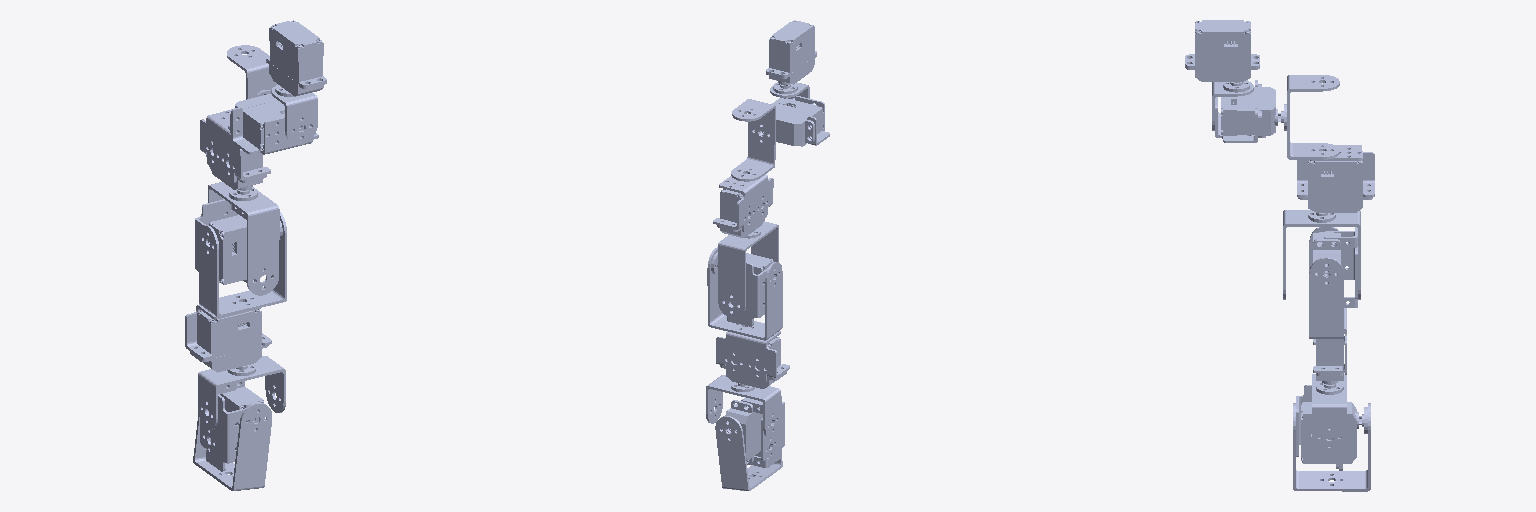
robot.urdf — arm_assembly_2:
<?xml version="1.0" encoding="utf-8"?>
<!-- This URDF was automatically created by SolidWorks to URDF Exporter! Originally created by [author] ([email redacted]) 
     Commit Version: 1.6.0-1-g15f4949  Build Version: 1.6.7594.29634
     For more information, please see http://wiki.ros.org/sw_urdf_exporter -->
<robot
  name="arm_assembly_2">
  <link
    name="link1">
    <inertial>
      <origin
        xyz="1.1338E-06 9.9819E-06 -0.020292"
        rpy="0 0 0" />
      <mass
        value="0.031905" />
      <inertia
        ixx="8.6771E-06"
        ixy="-2.6656E-10"
        ixz="9.1152E-11"
        iyy="5.2647E-06"
        iyz="8.0892E-08"
        izz="5.4828E-06" />
    </inertial>
    <visual>
      <origin
        xyz="0 0 0"
        rpy="0 0 0" />
      <geometry>
        <mesh
          filename="package://arm_assembly_2/meshes/link1.STL" />
      </geometry>
      <material
        name="">
        <color
          rgba="0.79216 0.81961 0.93333 1" />
      </material>
    </visual>
    <collision>
      <origin
        xyz="0 0 0"
        rpy="0 0 0" />
      <geometry>
        <mesh
          filename="package://arm_assembly_2/meshes/link1.STL" />
      </geometry>
    </collision>
  </link>
  <link
    name="link2">
    <inertial>
      <origin
        xyz="-0.0087141 0.0060617 -0.028002"
        rpy="0 0 0" />
      <mass
        value="0.04101" />
      <inertia
        ixx="9.4593E-06"
        ixy="3.7131E-07"
        ixz="-5.3734E-07"
        iyy="9.1892E-06"
        iyz="5.2146E-07"
        izz="1.2798E-05" />
    </inertial>
    <visual>
      <origin
        xyz="0 0 0"
        rpy="0 0 0" />
      <geometry>
        <mesh
          filename="package://arm_assembly_2/meshes/link2.STL" />
      </geometry>
      <material
        name="">
        <color
          rgba="0.79216 0.81961 0.93333 1" />
      </material>
    </visual>
    <collision>
      <origin
        xyz="0 0 0"
        rpy="0 0 0" />
      <geometry>
        <mesh
          filename="package://arm_assembly_2/meshes/link2.STL" />
      </geometry>
    </collision>
  </link>
  <joint
    name="joint1"
    type="continuous">
    <origin
      xyz="0.00015556 0.0099012 -0.0435"
      rpy="0 0 0" />
    <parent
      link="link1" />
    <child
      link="link2" />
    <axis
      xyz="0 0 -1" />
  </joint>
  <link
    name="link3">
    <inertial>
      <origin
        xyz="-0.002309 0.035492 -0.043342"
        rpy="0 0 0" />
      <mass
        value="0.044197" />
      <inertia
        ixx="3.3418E-05"
        ixy="3.9532E-07"
        ixz="-5.011E-07"
        iyy="2.4892E-05"
        iyz="7.3143E-06"
        izz="1.2384E-05" />
    </inertial>
    <visual>
      <origin
        xyz="0 0 0"
        rpy="0 0 0" />
      <geometry>
        <mesh
          filename="package://arm_assembly_2/meshes/link3.STL" />
      </geometry>
      <material
        name="">
        <color
          rgba="0.79216 0.81961 0.93333 1" />
      </material>
    </visual>
    <collision>
      <origin
        xyz="0 0 0"
        rpy="0 0 0" />
      <geometry>
        <mesh
          filename="package://arm_assembly_2/meshes/link3.STL" />
      </geometry>
    </collision>
  </link>
  <joint
    name="joint2"
    type="continuous">
    <origin
      xyz="0.00040116 0.032139 -0.028656"
      rpy="0 0 0" />
    <parent
      link="link2" />
    <child
      link="link3" />
    <axis
      xyz="0 -1 0" />
  </joint>
  <link
    name="link4">
    <inertial>
      <origin
        xyz="-0.0013421 0.0048708 -0.042547"
        rpy="0 0 0" />
      <mass
        value="0.046897" />
      <inertia
        ixx="2.1057E-05"
        ixy="7.0643E-07"
        ixz="-3.4862E-07"
        iyy="1.9127E-05"
        iyz="9.7052E-07"
        izz="1.3946E-05" />
    </inertial>
    <visual>
      <origin
        xyz="0 0 0"
        rpy="0 0 0" />
      <geometry>
        <mesh
          filename="package://arm_assembly_2/meshes/link4.STL" />
      </geometry>
      <material
        name="">
        <color
          rgba="0.79216 0.81961 0.93333 1" />
      </material>
    </visual>
    <collision>
      <origin
        xyz="0 0 0"
        rpy="0 0 0" />
      <geometry>
        <mesh
          filename="package://arm_assembly_2/meshes/link4.STL" />
      </geometry>
    </collision>
  </link>
  <joint
    name="joint3"
    type="continuous">
    <origin
      xyz="-0.0014881 0.02946 -0.074719"
      rpy="0 0 0" />
    <parent
      link="link3" />
    <child
      link="link4" />
    <axis
      xyz="0 0 1" />
  </joint>
  <link
    name="link5">
    <inertial>
      <origin
        xyz="-0.0057267 0.002757 -0.066036"
        rpy="0 0 0" />
      <mass
        value="0.046897" />
      <inertia
        ixx="2.8258E-05"
        ixy="2.9557E-07"
        ixz="-4.4591E-06"
        iyy="3.8338E-05"
        iyz="1.0415E-06"
        izz="1.4302E-05" />
    </inertial>
    <visual>
      <origin
        xyz="0 0 0"
        rpy="0 0 0" />
      <geometry>
        <mesh
          filename="package://arm_assembly_2/meshes/link5.STL" />
      </geometry>
      <material
        name="">
        <color
          rgba="0.79216 0.81961 0.93333 1" />
      </material>
    </visual>
    <collision>
      <origin
        xyz="0 0 0"
        rpy="0 0 0" />
      <geometry>
        <mesh
          filename="package://arm_assembly_2/meshes/link5.STL" />
      </geometry>
    </collision>
  </link>
  <joint
    name="joint4"
    type="continuous">
    <origin
      xyz="0 0.0033706 -0.036909"
      rpy="0 0 0" />
    <parent
      link="link4" />
    <child
      link="link5" />
    <axis
      xyz="-1 0 0" />
  </joint>
  <link
    name="link6">
    <inertial>
      <origin
        xyz="-0.0051364 -0.001456 -0.037837"
        rpy="0 0 0" />
      <mass
        value="0.044197" />
      <inertia
        ixx="1.6766E-05"
        ixy="-6.8836E-07"
        ixz="-9.2738E-07"
        iyy="1.6803E-05"
        iyz="-3.4259E-07"
        izz="1.1763E-05" />
    </inertial>
    <visual>
      <origin
        xyz="0 0 0"
        rpy="0 0 0" />
      <geometry>
        <mesh
          filename="package://arm_assembly_2/meshes/link6.STL" />
      </geometry>
      <material
        name="">
        <color
          rgba="0.79216 0.81961 0.93333 1" />
      </material>
    </visual>
    <collision>
      <origin
        xyz="0 0 0"
        rpy="0 0 0" />
      <geometry>
        <mesh
          filename="package://arm_assembly_2/meshes/link6.STL" />
      </geometry>
    </collision>
  </link>
  <joint
    name="joint5"
    type="continuous">
    <origin
      xyz="0.0019012 0.0022611 -0.099072"
      rpy="0 0 0" />
    <parent
      link="link5" />
    <child
      link="link6" />
    <axis
      xyz="0 0 1" />
  </joint>
  <link
    name="link7">
    <inertial>
      <origin
        xyz="-0.00344363220813368 0.00347221820362538 -0.027976126548721"
        rpy="0 0 0" />
      <mass
        value="0.00924604523543892" />
      <inertia
        ixx="9.44134996862413E-06"
        ixy="-6.3921133213713E-08"
        ixz="-4.43711954461436E-07"
        iyy="4.58042053560908E-06"
        iyz="-5.15095220793115E-07"
        izz="5.89206814135351E-06" />
    </inertial>
    <visual>
      <origin
        xyz="0 0 0"
        rpy="0 0 0" />
      <geometry>
        <mesh
          filename="package://arm_assembly_2/meshes/link7.STL" />
      </geometry>
      <material
        name="">
        <color
          rgba="0.792156862745098 0.819607843137255 0.933333333333333 1" />
      </material>
    </visual>
    <collision>
      <origin
        xyz="0 0 0"
        rpy="0 0 0" />
      <geometry>
        <mesh
          filename="package://arm_assembly_2/meshes/link7.STL" />
      </geometry>
    </collision>
  </link>
  <joint
    name="joint6"
    type="continuous">
    <origin
      xyz="-0.0033444 -2.7019E-05 -0.032028"
      rpy="0 0 0" />
    <parent
      link="link6" />
    <child
      link="link7" />
    <axis
      xyz="0 -1 0" />
  </joint>
</robot>

--- What the picture shows (computed from the rendered views, not written in the file) ---
Views: 3 orthographic renders of the robot side by side, from view 1: azimuth 30°, elevation 25°; view 2: azimuth 150°, elevation 25°; view 3: azimuth 270°, elevation 25°.
Robot: arm_assembly_2 — 7 links, 6 joints (6 continuous); root link link1; default pose: all joints at 0.
Visible links, largest first — view 1: link5, link4, link6, link2, link3, link7, link1; view 2: link5, link3, link4, link6, link2, link1, link7; view 3: link3, link6, link5, link1, link2, link4, link7.
Link boxes in pixels (left/top/right/bottom): link5: left=185, top=212, right=286, bottom=372; link4: left=195, top=182, right=279, bottom=295; link6: left=198, top=356, right=285, bottom=471; link2: left=230, top=84, right=318, bottom=154; link3: left=200, top=45, right=276, bottom=190; link7: left=193, top=402, right=271, bottom=490; link1: left=266, top=20, right=326, bottom=96; link5: left=707, top=247, right=789, bottom=388; link3: left=713, top=99, right=775, bottom=237; link4: left=718, top=221, right=778, bottom=326; link6: left=706, top=375, right=784, bottom=467; link2: left=761, top=82, right=829, bottom=146; link1: left=766, top=20, right=816, bottom=85; link7: left=715, top=416, right=782, bottom=490; link3: left=1281, top=75, right=1374, bottom=212; link6: left=1296, top=374, right=1361, bottom=470; link5: left=1309, top=227, right=1346, bottom=384; link1: left=1185, top=20, right=1259, bottom=82; link2: left=1212, top=80, right=1280, bottom=142; link4: left=1283, top=210, right=1360, bottom=307; link7: left=1293, top=403, right=1370, bottom=491.
Size in the robot's own frame: 0.0663 by 0.1364 by 0.3685 metres.
Meshes: 7 distinct files referenced, 7 mesh visuals loaded (7 binary STL).